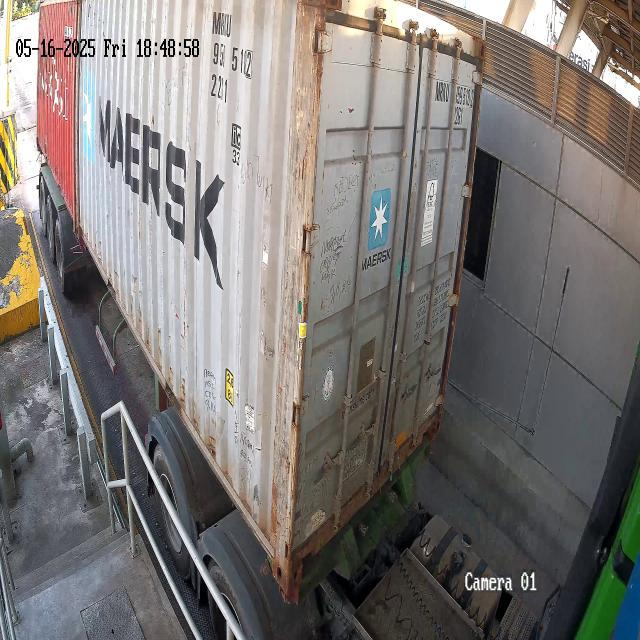ISO: (203, 72, 234, 108), (449, 106, 466, 130)
container_number: (206, 3, 258, 79), (430, 72, 479, 106)
